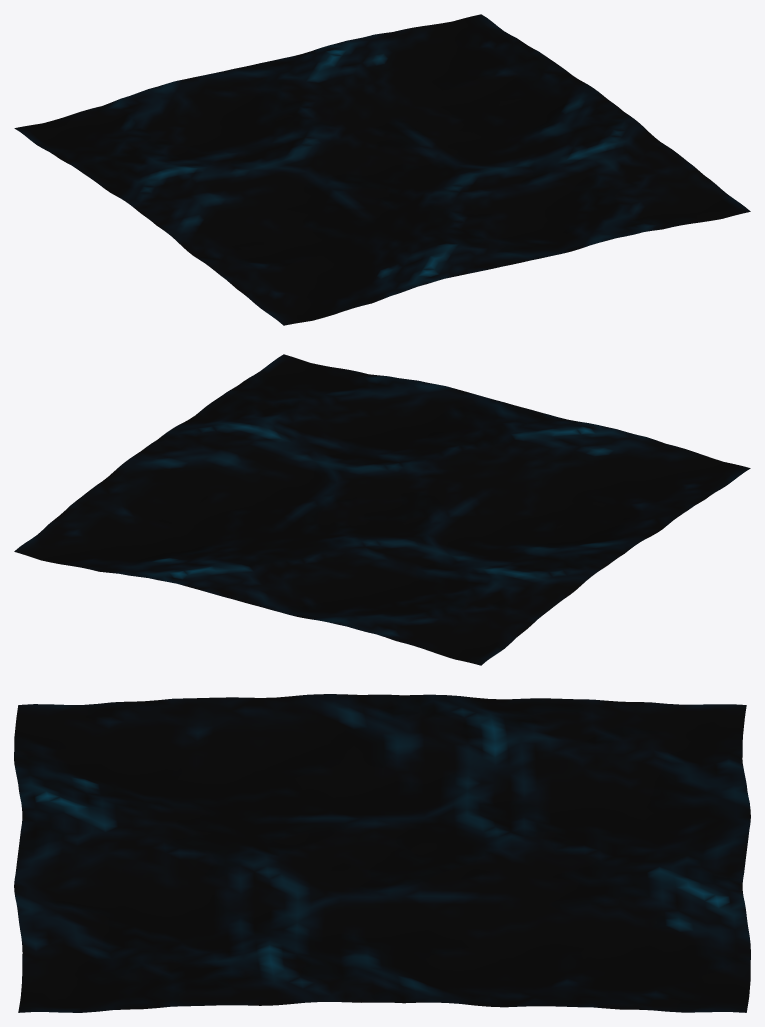
The model's file is Sea(11).glb.
3 views of the same model, one above another, from view 1: azimuth 30°, elevation 25°; view 2: azimuth 150°, elevation 25°; view 3: azimuth 270°, elevation 25° (orthographic). The views are drawn at different scales.
Parts seen in each view (by area): view 1: Sea; view 2: Sea; view 3: Sea.
Boxes of the visible parts, left/top/right/bottom form: Sea: left=14, top=14, right=750, bottom=325; Sea: left=14, top=354, right=750, bottom=665; Sea: left=14, top=694, right=750, bottom=1012.
Size of the model in its own units: 50.24 by 1.42 by 50.59.
